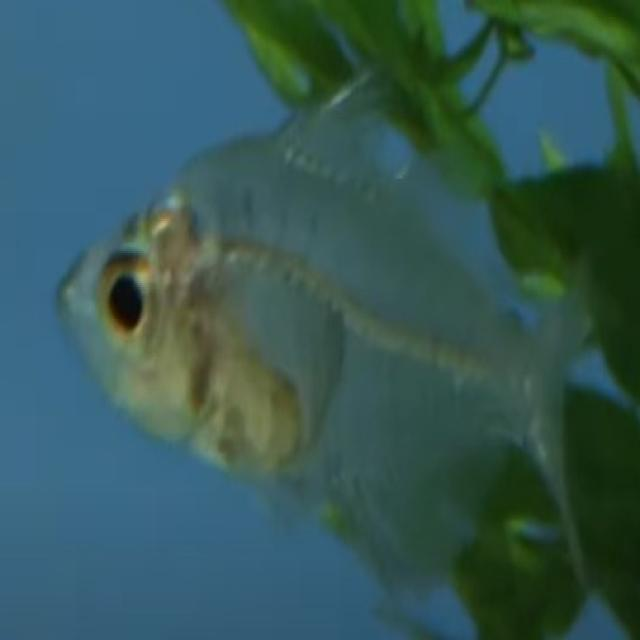Glass-Perchlet: (40, 39, 640, 606)
